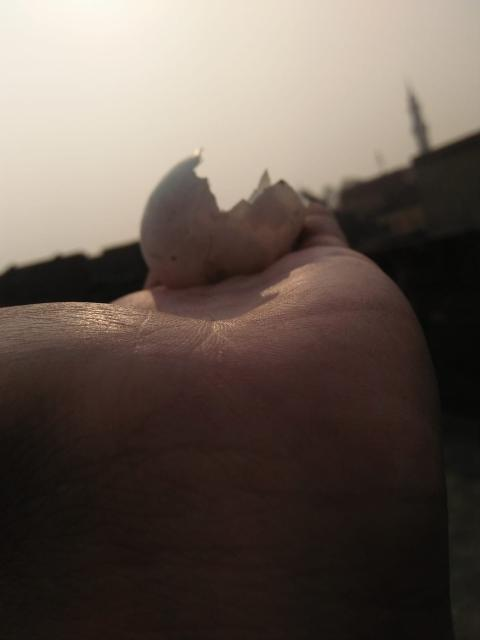Roto: (138, 145, 308, 289)
